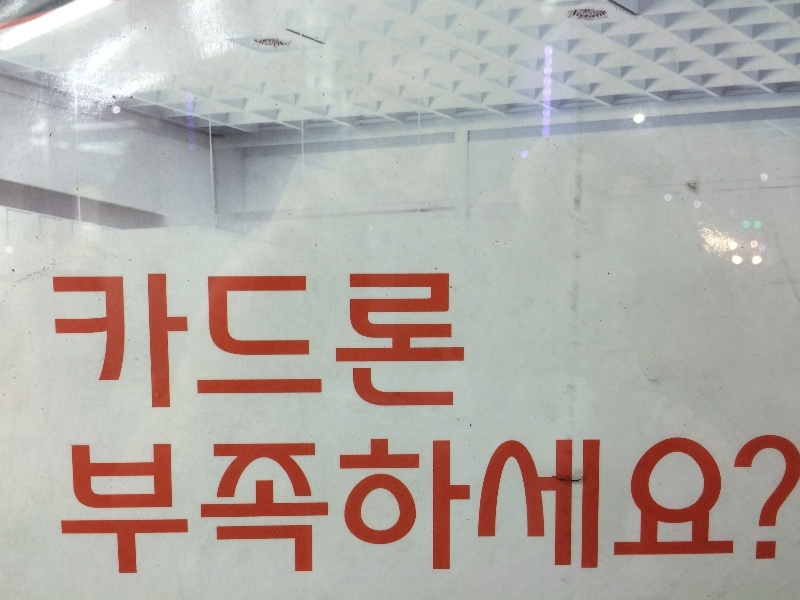text: (65, 434, 80, 580), (81, 434, 96, 580), (97, 434, 112, 580), (113, 434, 128, 580), (129, 434, 144, 580), (145, 434, 160, 580), (161, 434, 176, 580), (177, 434, 192, 580), (193, 434, 208, 580), (209, 434, 224, 580), (225, 434, 240, 580), (241, 434, 256, 580), (257, 434, 272, 580), (273, 434, 288, 580), (289, 434, 304, 580), (305, 434, 320, 580), (321, 434, 336, 580), (337, 434, 352, 580), (353, 434, 368, 580), (369, 434, 384, 580), (385, 434, 400, 580), (401, 434, 416, 580), (417, 434, 432, 580), (433, 434, 448, 580), (449, 434, 464, 580), (465, 434, 480, 580), (481, 434, 496, 580), (497, 434, 512, 580), (513, 434, 528, 580), (529, 434, 544, 580), (545, 434, 560, 580), (561, 434, 576, 580), (577, 434, 592, 580), (593, 434, 608, 580), (609, 434, 624, 580), (625, 434, 640, 580), (641, 434, 656, 580), (657, 434, 672, 580), (673, 434, 688, 580), (689, 434, 704, 580), (705, 434, 720, 580), (721, 434, 736, 580), (737, 434, 752, 580), (753, 434, 768, 580), (769, 434, 784, 580), (785, 434, 800, 580), (49, 272, 64, 410), (65, 272, 80, 410), (81, 272, 96, 410), (97, 272, 112, 410), (113, 272, 128, 410), (129, 272, 144, 410), (145, 272, 160, 410), (161, 272, 176, 410), (177, 272, 192, 410), (193, 272, 208, 410), (209, 272, 224, 410), (225, 272, 240, 410), (241, 272, 256, 410), (257, 272, 272, 410), (273, 272, 288, 410), (289, 272, 304, 410), (305, 272, 320, 410), (321, 272, 336, 410), (337, 272, 352, 410), (353, 272, 368, 410), (369, 272, 384, 410), (385, 272, 400, 410), (401, 272, 416, 410), (417, 272, 432, 410), (433, 272, 448, 410), (449, 272, 464, 410), (465, 272, 474, 410), (56, 434, 64, 580)
